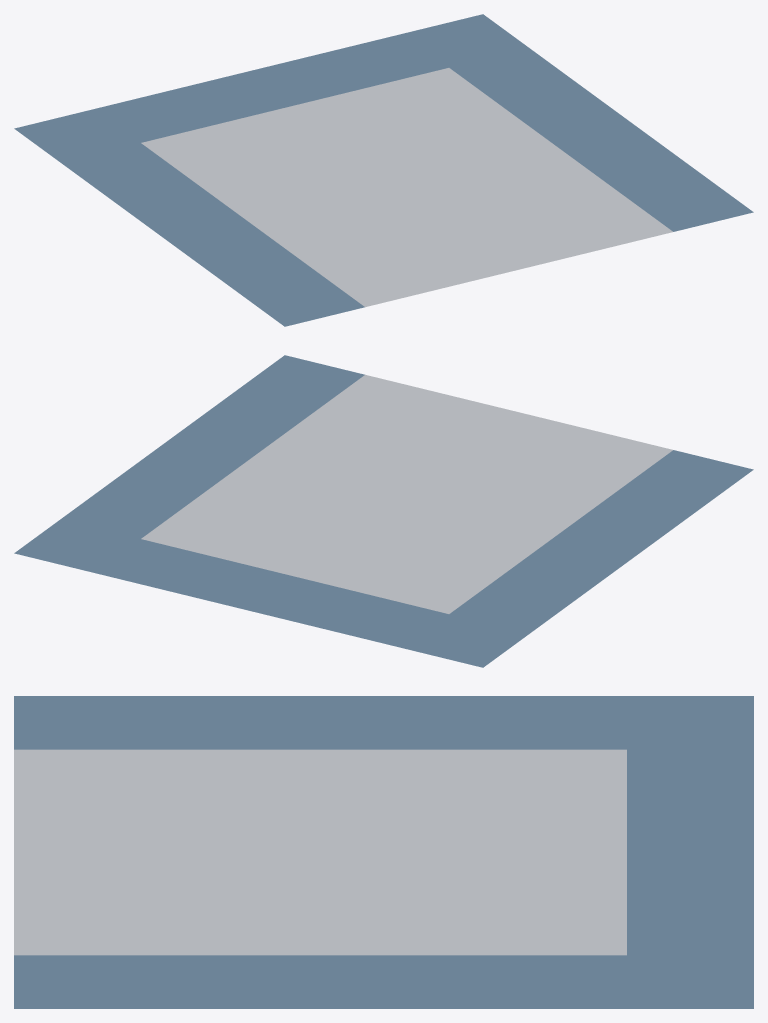
The model's file is M_FloorCrossT700x700Marine20-4_4.FBX.
3 renders of one model, top to bottom at view 1: azimuth 30°, elevation 25°; view 2: azimuth 150°, elevation 25°; view 3: azimuth 270°, elevation 25°, orthographic. The views are drawn at different scales.
Parts seen in each view (by area): view 1: M_FloorCrossT700x700Marine20-4_4; view 2: M_FloorCrossT700x700Marine20-4_4; view 3: M_FloorCrossT700x700Marine20-4_4.
Part boxes in pixels (x1=…): M_FloorCrossT700x700Marine20-4_4: x1=14, y1=14, x2=753, y2=326; M_FloorCrossT700x700Marine20-4_4: x1=14, y1=355, x2=753, y2=667; M_FloorCrossT700x700Marine20-4_4: x1=14, y1=696, x2=753, y2=1008.
Bounding box in the file's own units: 7 × 1.75e-06 × 7.
